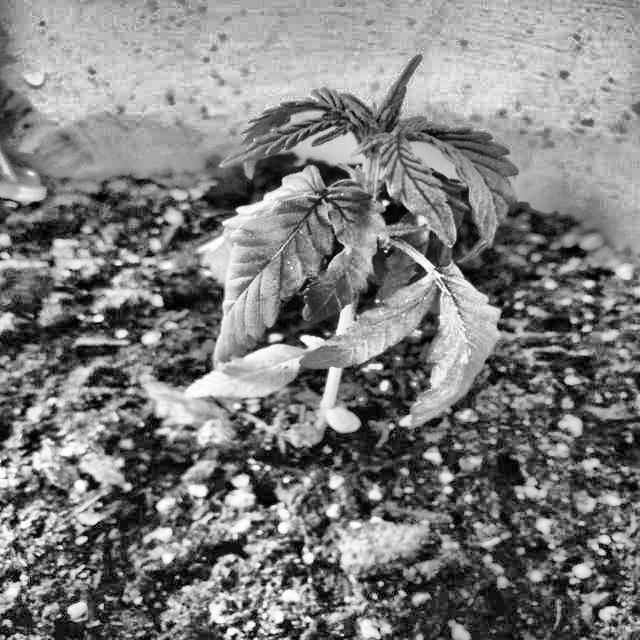plants: (197, 66, 517, 463)
